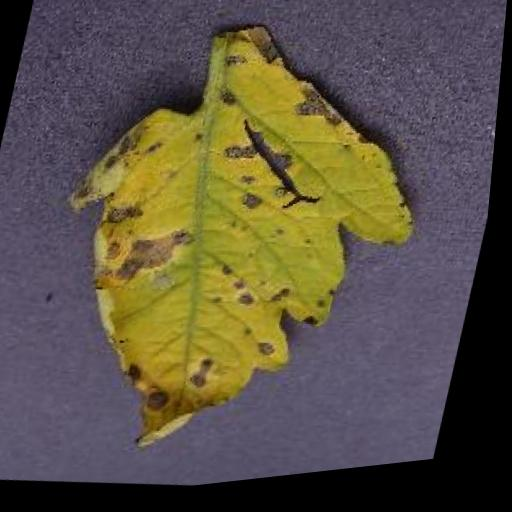Septoria: (21, 0, 461, 493)
